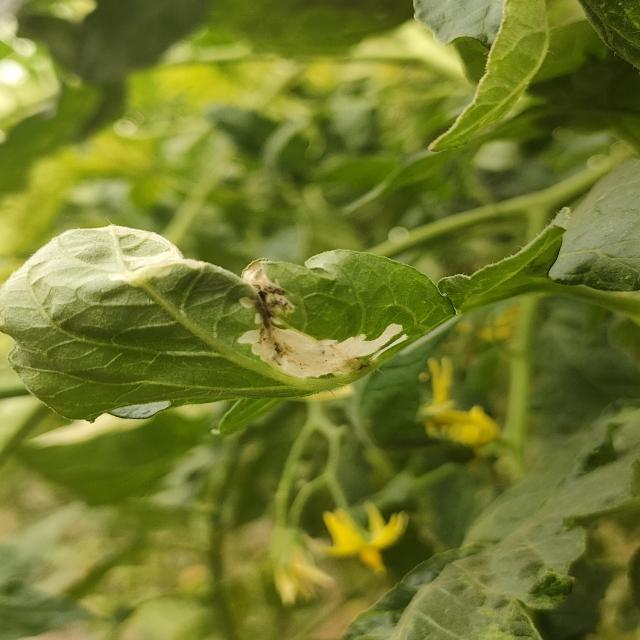Tuta absoluta: (212, 254, 414, 413)
